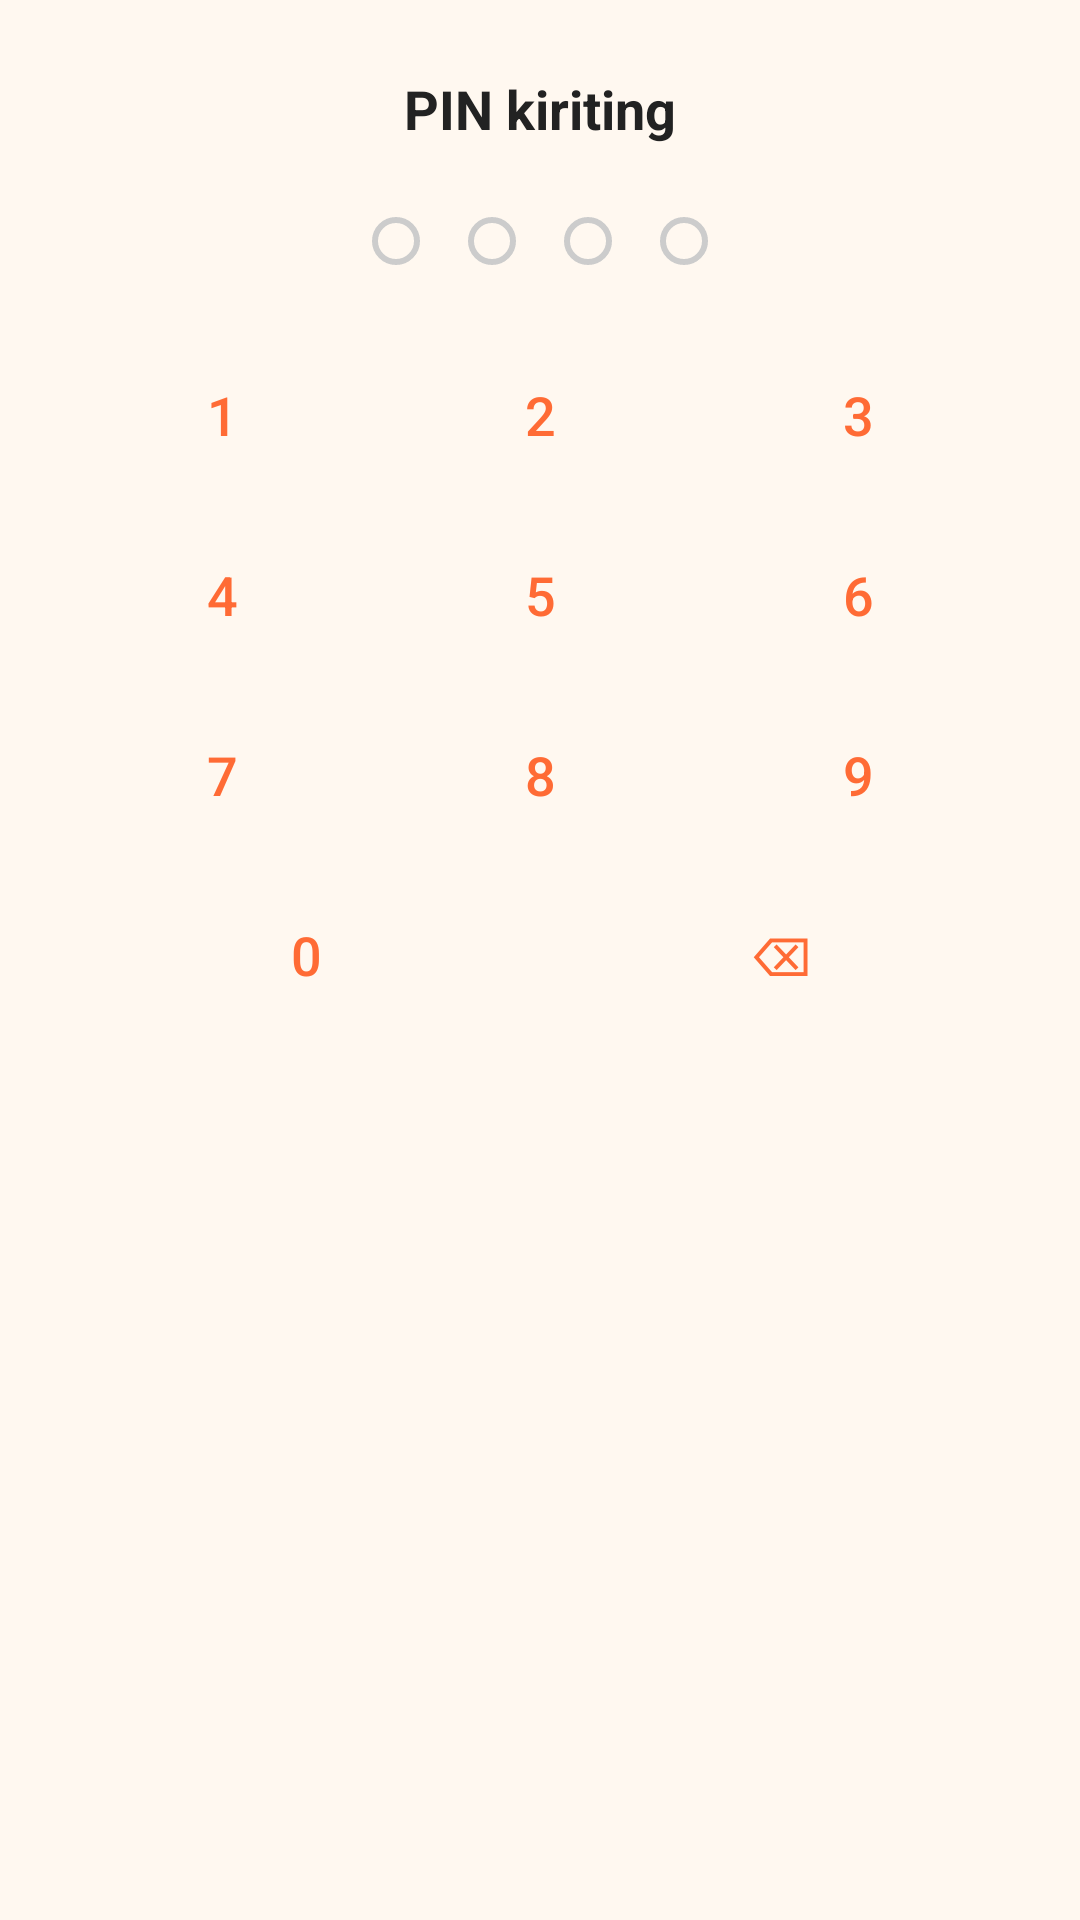

Where icons sit on this 1080*1920 app screen, as (x1, y1, x2, y2):
pin dot empty: (372, 217, 420, 265), (468, 217, 516, 265), (564, 217, 612, 265), (660, 217, 708, 265)
